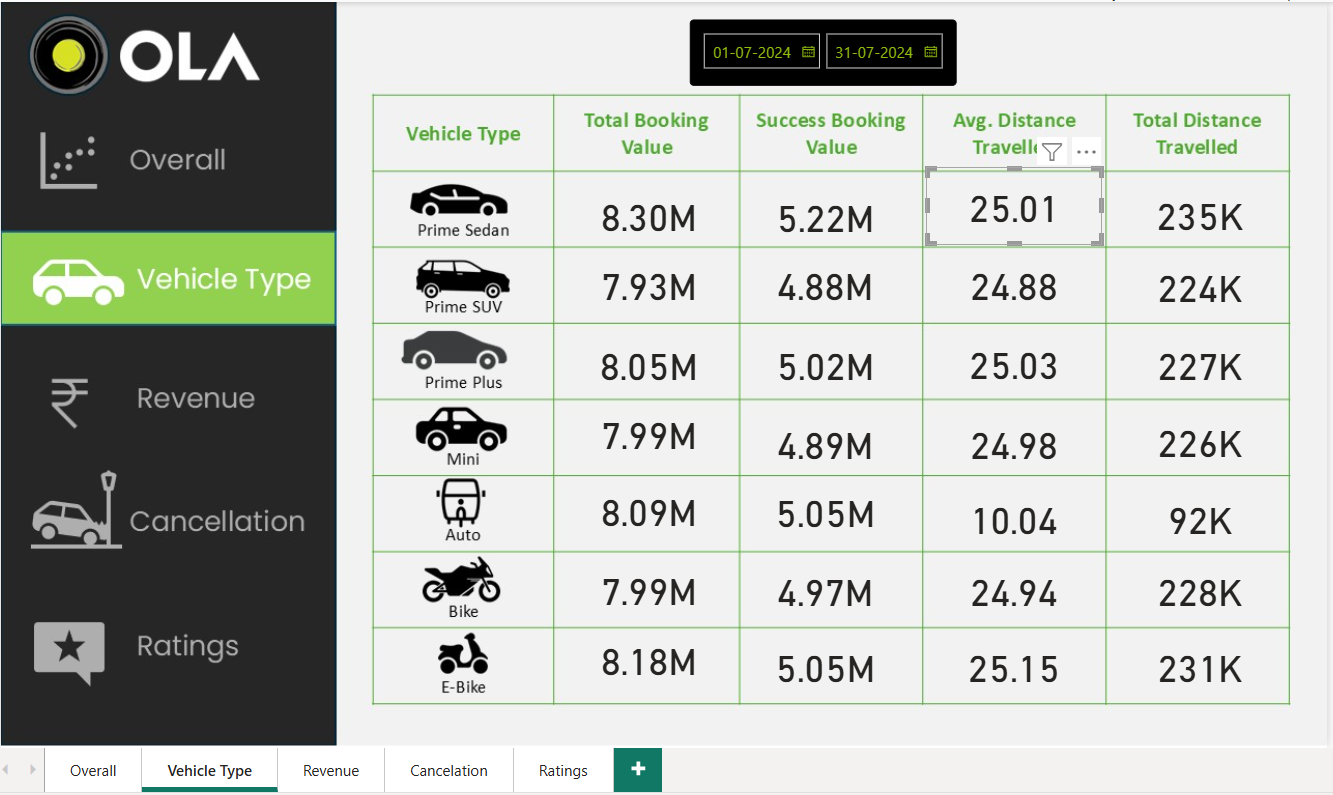

The dashboard page shown, as its layout file describes it:
{"tool":"powerbi","page":{"name":"Vehicle Type","canvas":[1280,720],"ordinal":1},"visuals":[{"type":"actionButton","box":[0,330.6,323.3,92.9],"z":0},{"type":"actionButton","box":[0,451.2,323.3,92.9],"z":1000},{"type":"actionButton","box":[0,577.9,323.3,92.9],"z":2000},{"type":"actionButton","box":[0,111,323.3,92.9],"z":3000},{"type":"card","fields":{"Values":["Sum(July.Booking_Value)"]},"box":[540.7,167.4,170.2,75.5],"z":4000},{"type":"card","fields":{"Values":["Sum(July.Booking_Value)"]},"box":[540.7,241.5,170.2,60.4],"z":5000},{"type":"card","fields":{"Values":["Sum(July.Booking_Value)"]},"box":[540.7,528.3,170.2,75.5],"z":6000},{"type":"card","fields":{"Values":["Sum(July.Booking_Value)"]},"box":[540.7,452.8,170.2,75.5],"z":7000},{"type":"card","fields":{"Values":["Sum(July.Booking_Value)"]},"box":[540.7,377.4,170.2,75.5],"z":8000},{"type":"card","fields":{"Values":["Sum(July.Booking_Value)"]},"box":[540.7,311.5,170.2,75.5],"z":9000},{"type":"card","fields":{"Values":["Sum(July.Booking_Value)"]},"box":[540.7,595.5,170.2,75.5],"z":10000},{"type":"card","fields":{"Values":["Sum(July.Booking_Value)"]},"box":[710.8,168.8,170.2,75.5],"z":11000},{"type":"card","fields":{"Values":["Sum(July.Booking_Value)"]},"box":[710.8,234.6,170.2,75.5],"z":12000},{"type":"card","fields":{"Values":["Sum(July.Booking_Value)"]},"box":[710.8,311.5,170.2,75.5],"z":13000},{"type":"card","fields":{"Values":["Sum(July.Booking_Value)"]},"box":[710.8,387,170.2,75.5],"z":14000},{"type":"card","fields":{"Values":["Sum(July.Booking_Value)"]},"box":[710.8,454.2,170.2,75.5],"z":15000},{"type":"card","fields":{"Values":["Sum(July.Booking_Value)"]},"box":[710.8,529.7,170.2,75.5],"z":16000},{"type":"card","fields":{"Values":["Sum(July.Booking_Value)"]},"box":[710.8,603.8,170.2,75.5],"z":17000},{"type":"card","fields":{"Values":["Avg(July.Ride_Distance)"]},"box":[893.3,159.2,170.2,75.5],"z":18000},{"type":"card","fields":{"Values":["Avg(July.Ride_Distance)"]},"box":[893.3,234.6,170.2,75.5],"z":19000},{"type":"card","fields":{"Values":["Avg(July.Ride_Distance)"]},"box":[893.3,529.7,170.2,75.5],"z":20000},{"type":"card","fields":{"Values":["Avg(July.Ride_Distance)"]},"box":[893.3,459.7,170.2,75.5],"z":21000},{"type":"card","fields":{"Values":["Avg(July.Ride_Distance)"]},"box":[893.3,387,170.2,75.5],"z":22000},{"type":"card","fields":{"Values":["Avg(July.Ride_Distance)"]},"box":[893.3,310.1,170.2,75.5],"z":23000},{"type":"card","fields":{"Values":["Avg(July.Ride_Distance)"]},"box":[893.3,603.8,170.2,75.5],"z":24000},{"type":"card","fields":{"Values":["Sum(July.Ride_Distance)"]},"box":[1073.1,166,170.2,75.5],"z":25000},{"type":"card","fields":{"Values":["Sum(July.Ride_Distance)"]},"box":[1073.1,236,170.2,75.5],"z":26000},{"type":"card","fields":{"Values":["Sum(July.Ride_Distance)"]},"box":[1073.1,385.6,170.2,75.5],"z":27000},{"type":"card","fields":{"Values":["Sum(July.Ride_Distance)"]},"box":[1073.1,529.7,170.2,75.5],"z":28000},{"type":"card","fields":{"Values":["Sum(July.Ride_Distance)"]},"box":[1073.1,459.7,170.2,75.5],"z":29000},{"type":"card","fields":{"Values":["Sum(July.Ride_Distance)"]},"box":[1073.1,311.5,170.2,75.5],"z":30000},{"type":"card","fields":{"Values":["Sum(July.Ride_Distance)"]},"box":[1073.1,603.8,170.2,75.5],"z":31000},{"type":"slicer","title":"Date","fields":{"Values":["July.Date"]},"box":[664.5,16.7,257.7,64.1],"z":32000}]}

Visuals, with their boxes on the page's 1280x720 design canvas (x1, y1, x2, y2). These are canvas units, not pixel positions in the 1333x795 screenshot, which may show the page scaled, cropped or inside an application window:
actionButton: locate(0, 331, 323, 424)
actionButton: locate(0, 451, 323, 544)
actionButton: locate(0, 578, 323, 671)
actionButton: locate(0, 111, 323, 204)
card - Sum(July.Booking_Value): locate(541, 167, 711, 243)
card - Sum(July.Booking_Value): locate(541, 242, 711, 302)
card - Sum(July.Booking_Value): locate(541, 528, 711, 604)
card - Sum(July.Booking_Value): locate(541, 453, 711, 528)
card - Sum(July.Booking_Value): locate(541, 377, 711, 453)
card - Sum(July.Booking_Value): locate(541, 312, 711, 387)
card - Sum(July.Booking_Value): locate(541, 596, 711, 671)
card - Sum(July.Booking_Value): locate(711, 169, 881, 244)
card - Sum(July.Booking_Value): locate(711, 235, 881, 310)
card - Sum(July.Booking_Value): locate(711, 312, 881, 387)
card - Sum(July.Booking_Value): locate(711, 387, 881, 462)
card - Sum(July.Booking_Value): locate(711, 454, 881, 530)
card - Sum(July.Booking_Value): locate(711, 530, 881, 605)
card - Sum(July.Booking_Value): locate(711, 604, 881, 679)
card - Avg(July.Ride_Distance): locate(893, 159, 1064, 235)
card - Avg(July.Ride_Distance): locate(893, 235, 1064, 310)
card - Avg(July.Ride_Distance): locate(893, 530, 1064, 605)
card - Avg(July.Ride_Distance): locate(893, 460, 1064, 535)
card - Avg(July.Ride_Distance): locate(893, 387, 1064, 462)
card - Avg(July.Ride_Distance): locate(893, 310, 1064, 386)
card - Avg(July.Ride_Distance): locate(893, 604, 1064, 679)
card - Sum(July.Ride_Distance): locate(1073, 166, 1243, 242)
card - Sum(July.Ride_Distance): locate(1073, 236, 1243, 312)
card - Sum(July.Ride_Distance): locate(1073, 386, 1243, 461)
card - Sum(July.Ride_Distance): locate(1073, 530, 1243, 605)
card - Sum(July.Ride_Distance): locate(1073, 460, 1243, 535)
card - Sum(July.Ride_Distance): locate(1073, 312, 1243, 387)
card - Sum(July.Ride_Distance): locate(1073, 604, 1243, 679)
"Date" slicer: locate(664, 17, 922, 81)
